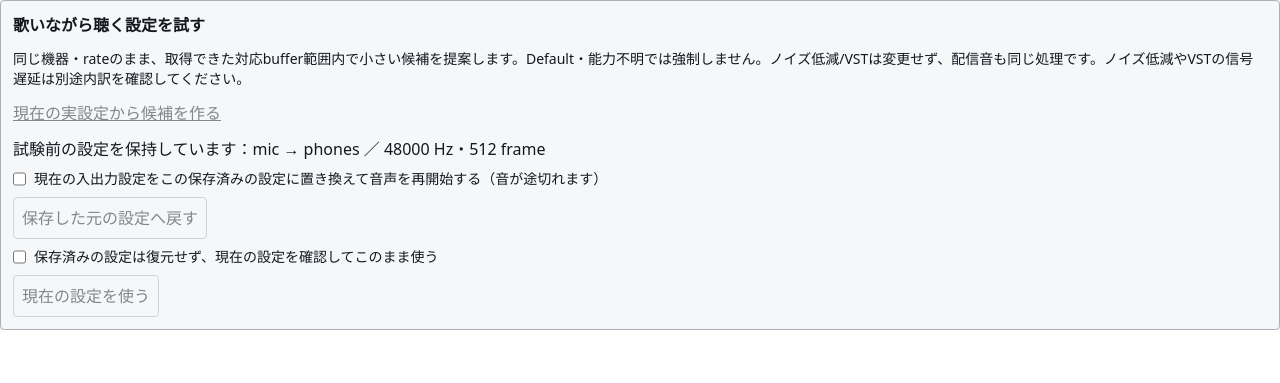
再起動後の原本は自動適用せず、機器消失時も保持して新しい試験を防ぐ
Check: the button "現在の実設定から候補を作る" is disabled, box [13,101,221,125]
Click the checkbox labelled "現在の入出力設定をこの保存済みの設定に置き換えて音声を再開始する（音が途切れます）": (20, 179) [13,169,26,189]
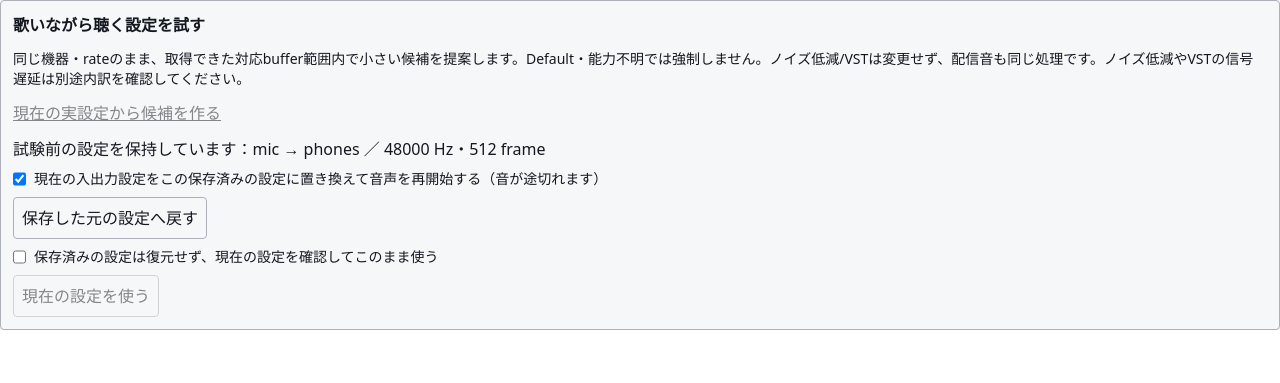
Check: the button "保存した元の設定へ戻す" is enabled
Click the button "保存した元の設定へ戻す": (110, 218) [13,197,207,239]
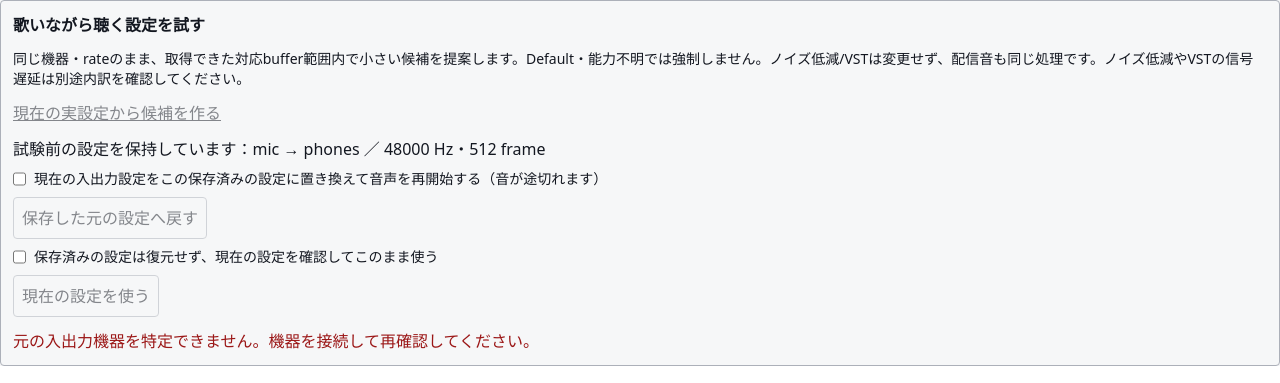
Check: the message "元の入出力機器を特定できません。機器を接続して再確認してください。" is shown, box [13,330,539,352]
